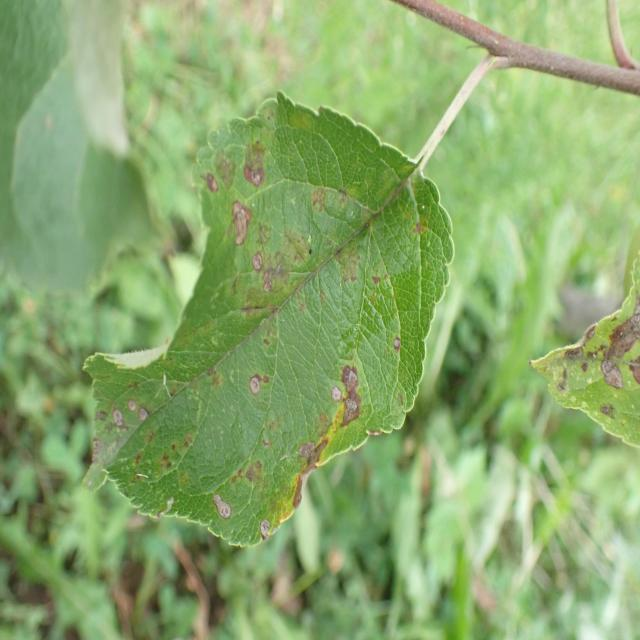frog-eye-leaf-spot: (80, 89, 454, 548)
